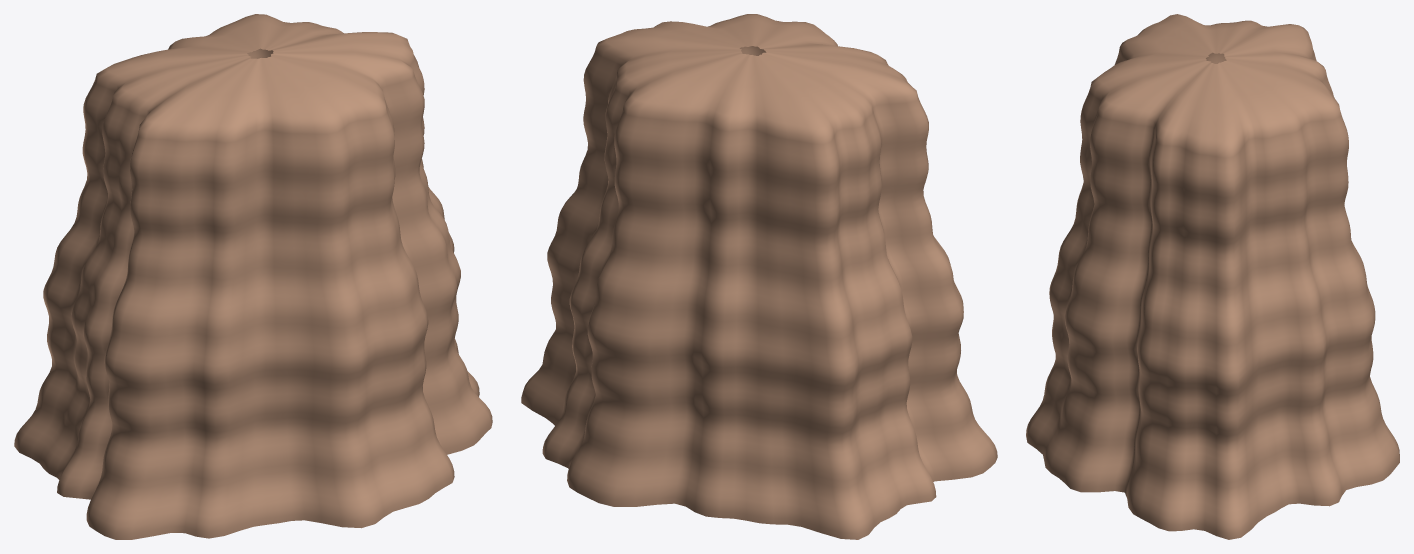
Rendered from mesa_sculpt_2.glb.
The picture shows the model from 3 angles, left to right: view 1: azimuth 30°, elevation 25°; view 2: azimuth 150°, elevation 25°; view 3: azimuth 270°, elevation 25°; orthographic projection. The views are drawn at different scales.
Parts seen in each view (by area): view 1: Layered eroded mesa; view 2: Layered eroded mesa; view 3: Layered eroded mesa.
Part boxes in pixels (bbox=[...]): Layered eroded mesa: bbox=[14, 14, 492, 539]; Layered eroded mesa: bbox=[521, 14, 997, 539]; Layered eroded mesa: bbox=[1026, 14, 1399, 539].
Size of the model in its own units: 2.57 by 2.3 by 2.06.
